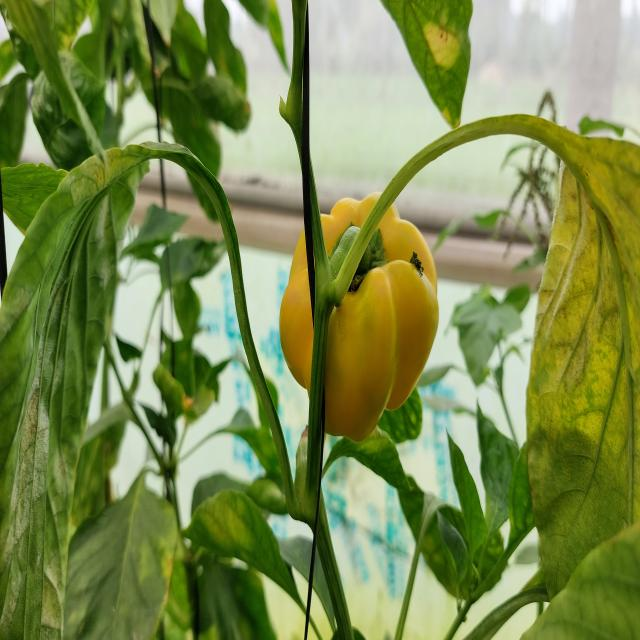Yellow-Ready-to-Harvest: (280, 194, 441, 451)
